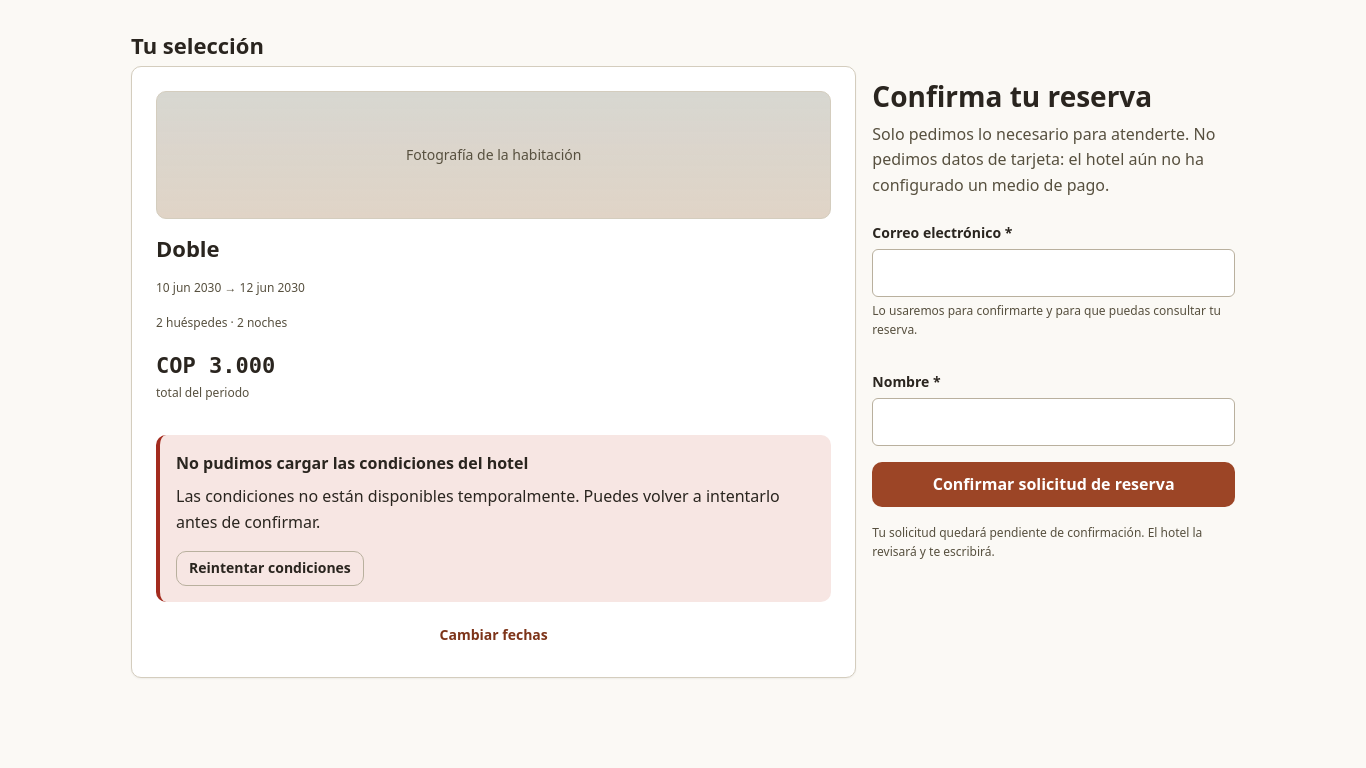
Test: PaginaReserva › avisa si no puede leer las condiciones y permite reintentarlo sin bloquear la reserva
Check: the message shows "No pudimos cargar las condiciones del hotel", box [176,452,528,474]
Check: the button "Confirmar solicitud de reserva" is enabled, box [872,462,1235,507]
Click the button "Reintentar condiciones" at (270, 569), box [176,551,364,586]
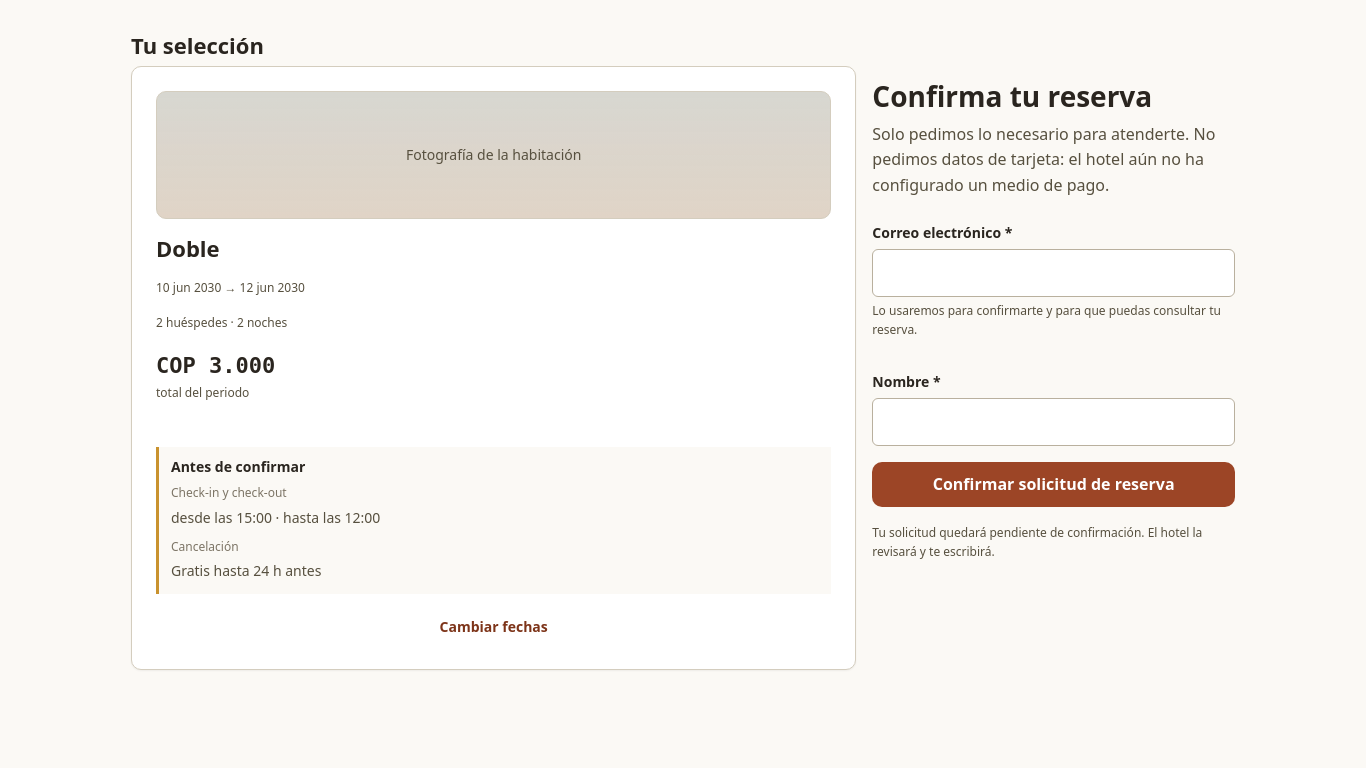
Check: the element named "condiciones" shows "15:00", box [236,508,272,526]
Check: the element named "condiciones" shows "Gratis hasta 24 h antes", box [171,561,321,580]
